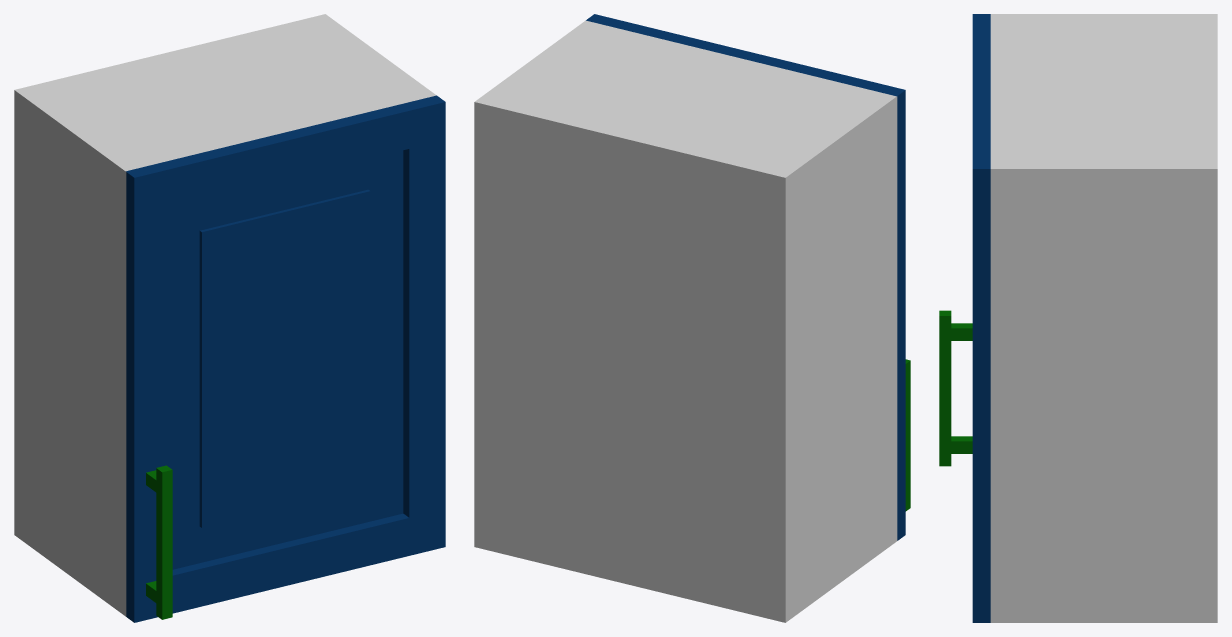
The model's file is CustomMeshCollision_Kitchen_Furniture_Cabinet_Separate.fbx.
3 renders of one model, left to right at view 1: azimuth 30°, elevation 25°; view 2: azimuth 150°, elevation 25°; view 3: azimuth 270°, elevation 25°, orthographic. The views are drawn at different scales.
Visible parts, largest first — view 1: Cabinet_Door_MeshCollision, Cabinet_Body_MeshCollision; view 2: Cabinet_Body_MeshCollision, Cabinet_Door_MeshCollision; view 3: Cabinet_Body_MeshCollision, Cabinet_Door_MeshCollision.
Boxes of the visible parts, x1=… form: Cabinet_Door_MeshCollision: x1=126, y1=95, x2=445, y2=622; Cabinet_Body_MeshCollision: x1=14, y1=14, x2=436, y2=616; Cabinet_Body_MeshCollision: x1=474, y1=20, x2=897, y2=622; Cabinet_Door_MeshCollision: x1=586, y1=14, x2=910, y2=540; Cabinet_Body_MeshCollision: x1=990, y1=14, x2=1217, y2=622; Cabinet_Door_MeshCollision: x1=939, y1=14, x2=990, y2=622.
Size of the model in its own units: 60.01 by 82 by 45.58.
